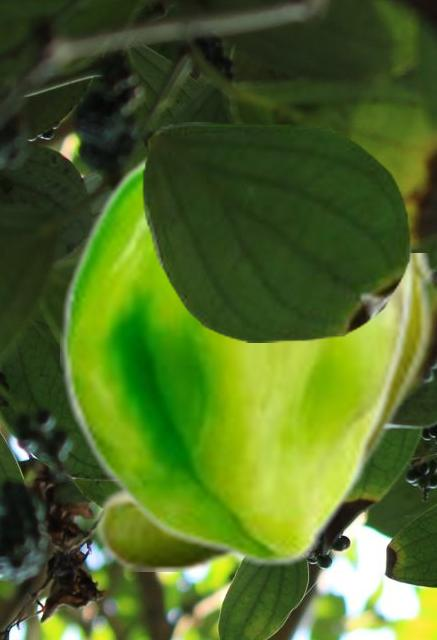green_chili: (60, 151, 416, 567), (92, 253, 435, 570)
